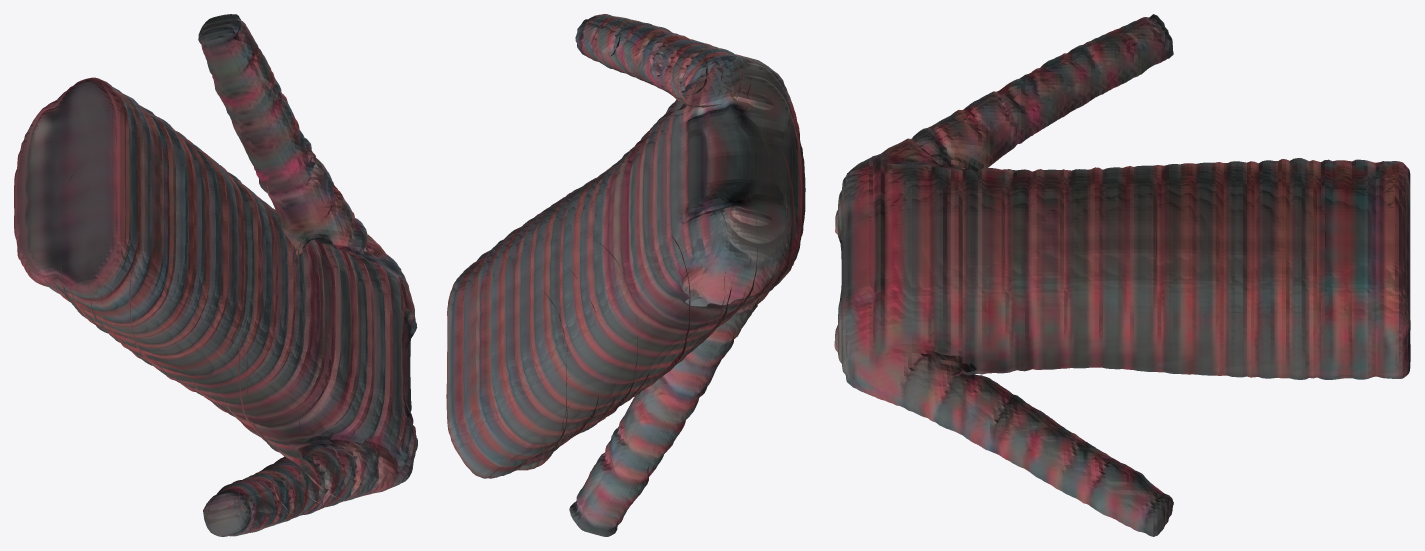
File: triposr_raw__T4_straight_longsleeve_square.glb
3 renders of one model, left to right at view 1: azimuth 30°, elevation 25°; view 2: azimuth 150°, elevation 25°; view 3: azimuth 270°, elevation 25°, orthographic.
Visible parts, largest first — view 1: geometry_0; view 2: geometry_0; view 3: geometry_0.
Part boxes in pixels (box(x1,y1,x2,y2)): geometry_0: box(14, 14, 417, 536); geometry_0: box(446, 14, 805, 536); geometry_0: box(834, 14, 1410, 536).
Bounding box in the file's own units: 0.2957 × 0.9877 × 1.01.
